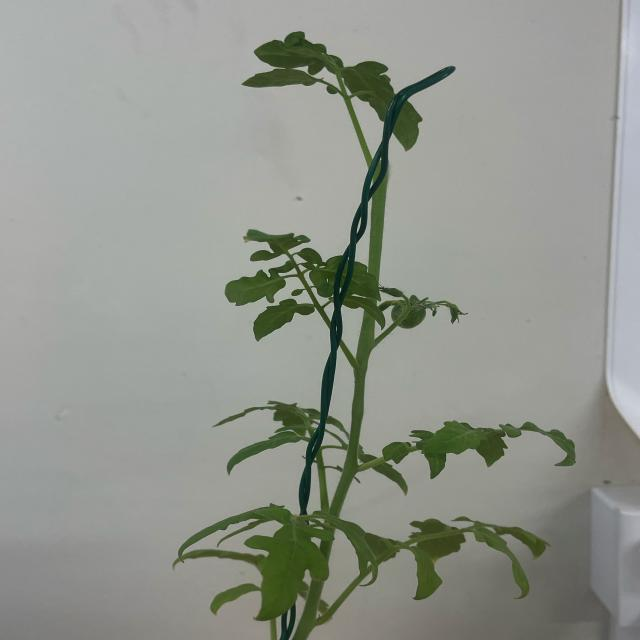level 1: (391, 297, 428, 332)
